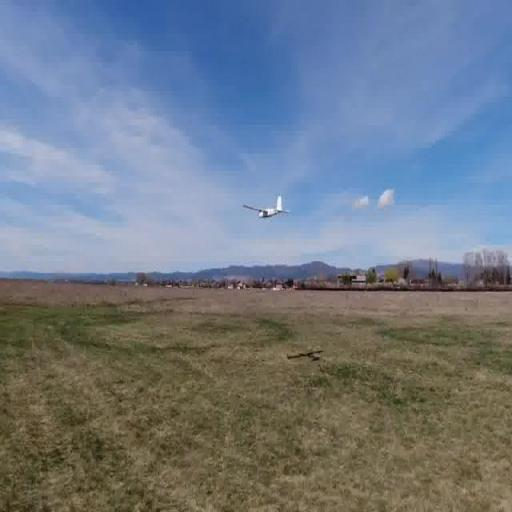uav: (242, 187, 290, 229)
